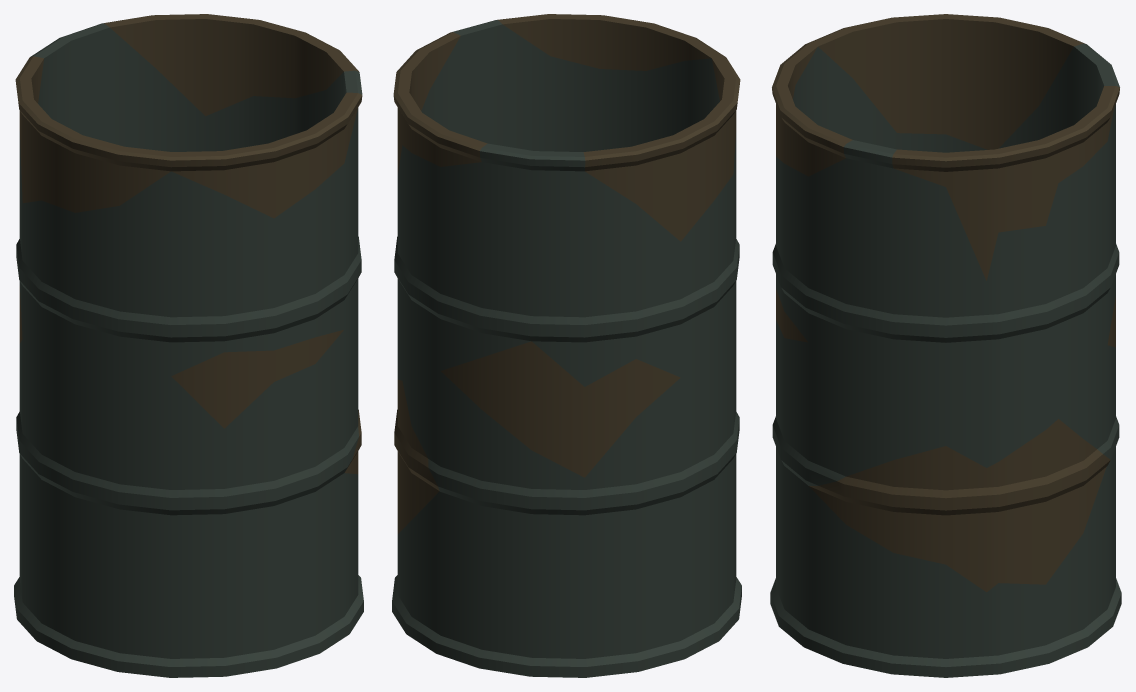
Rendered from barrel.glb.
The picture shows the model from 3 angles, left to right: view 1: azimuth 30°, elevation 25°; view 2: azimuth 150°, elevation 25°; view 3: azimuth 270°, elevation 25°; orthographic projection.
Visible parts, largest first — view 1: prop_barrel; view 2: prop_barrel; view 3: prop_barrel.
Part boxes in pixels (<box>): prop_barrel: <box>14,14,363,677</box>; prop_barrel: <box>392,14,741,677</box>; prop_barrel: <box>770,14,1121,677</box>.
Bounding box in the file's own units: 0.5535 × 0.9 × 0.5535.
1 material, 1 textured.
